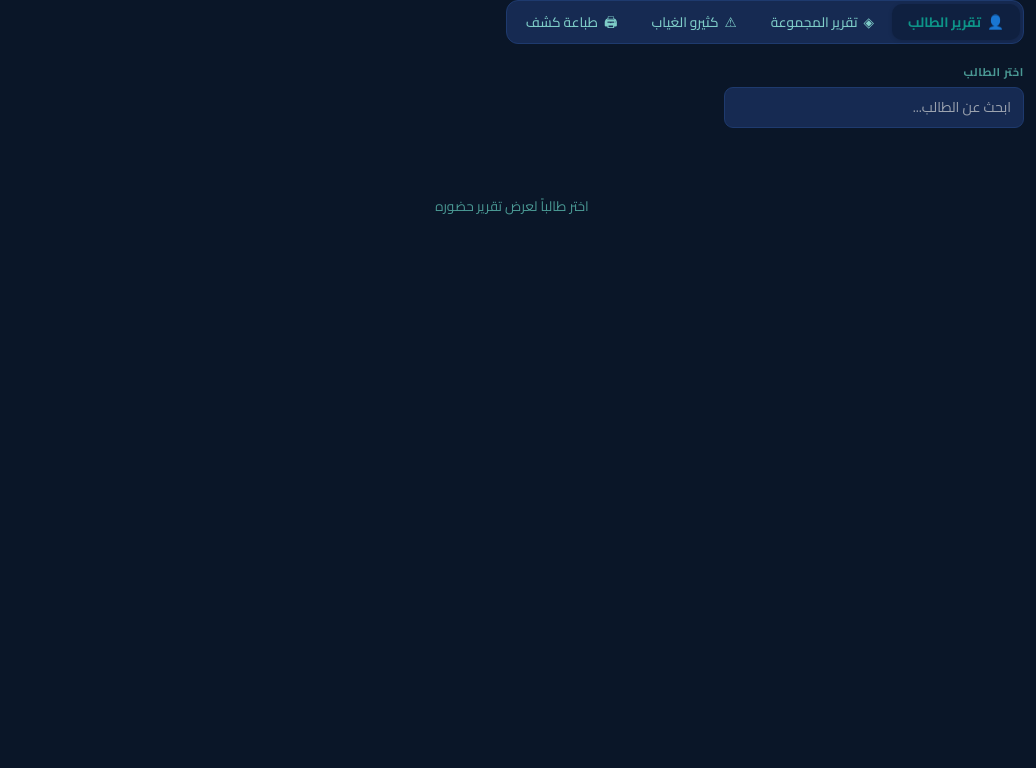
Test: AttendanceReports — "تقرير المجموعة" tab uses the scoped GET (not the aggregate, to preserve per-session rows) › a group with no attendance history shows the empty state, not an error
The image size is (1036, 768).
Click the button "◈ تقرير المجموعة". click: (822, 22)
box: [755,4,890,40]
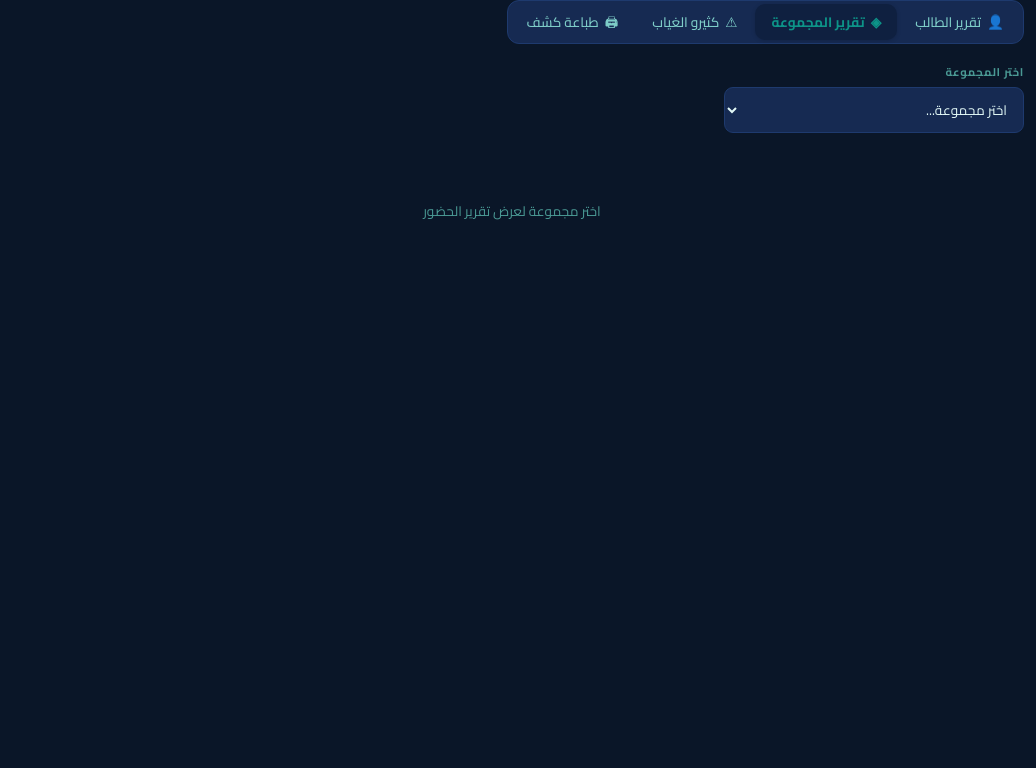
Select "مجموعة أ" in the dropdown showing "اختر مجموعة...". click: (874, 110)
box: [724,87,1024,133]
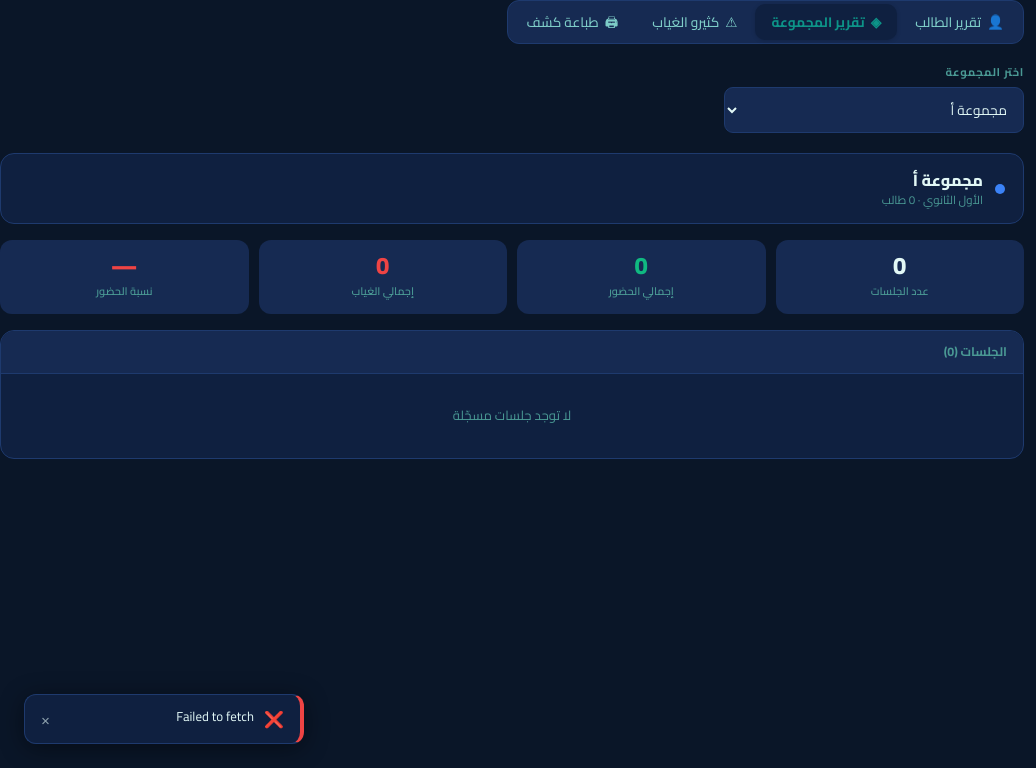
Expected: the text "لا توجد جلسات مسجّلة" is shown, [453,404,571,428]
